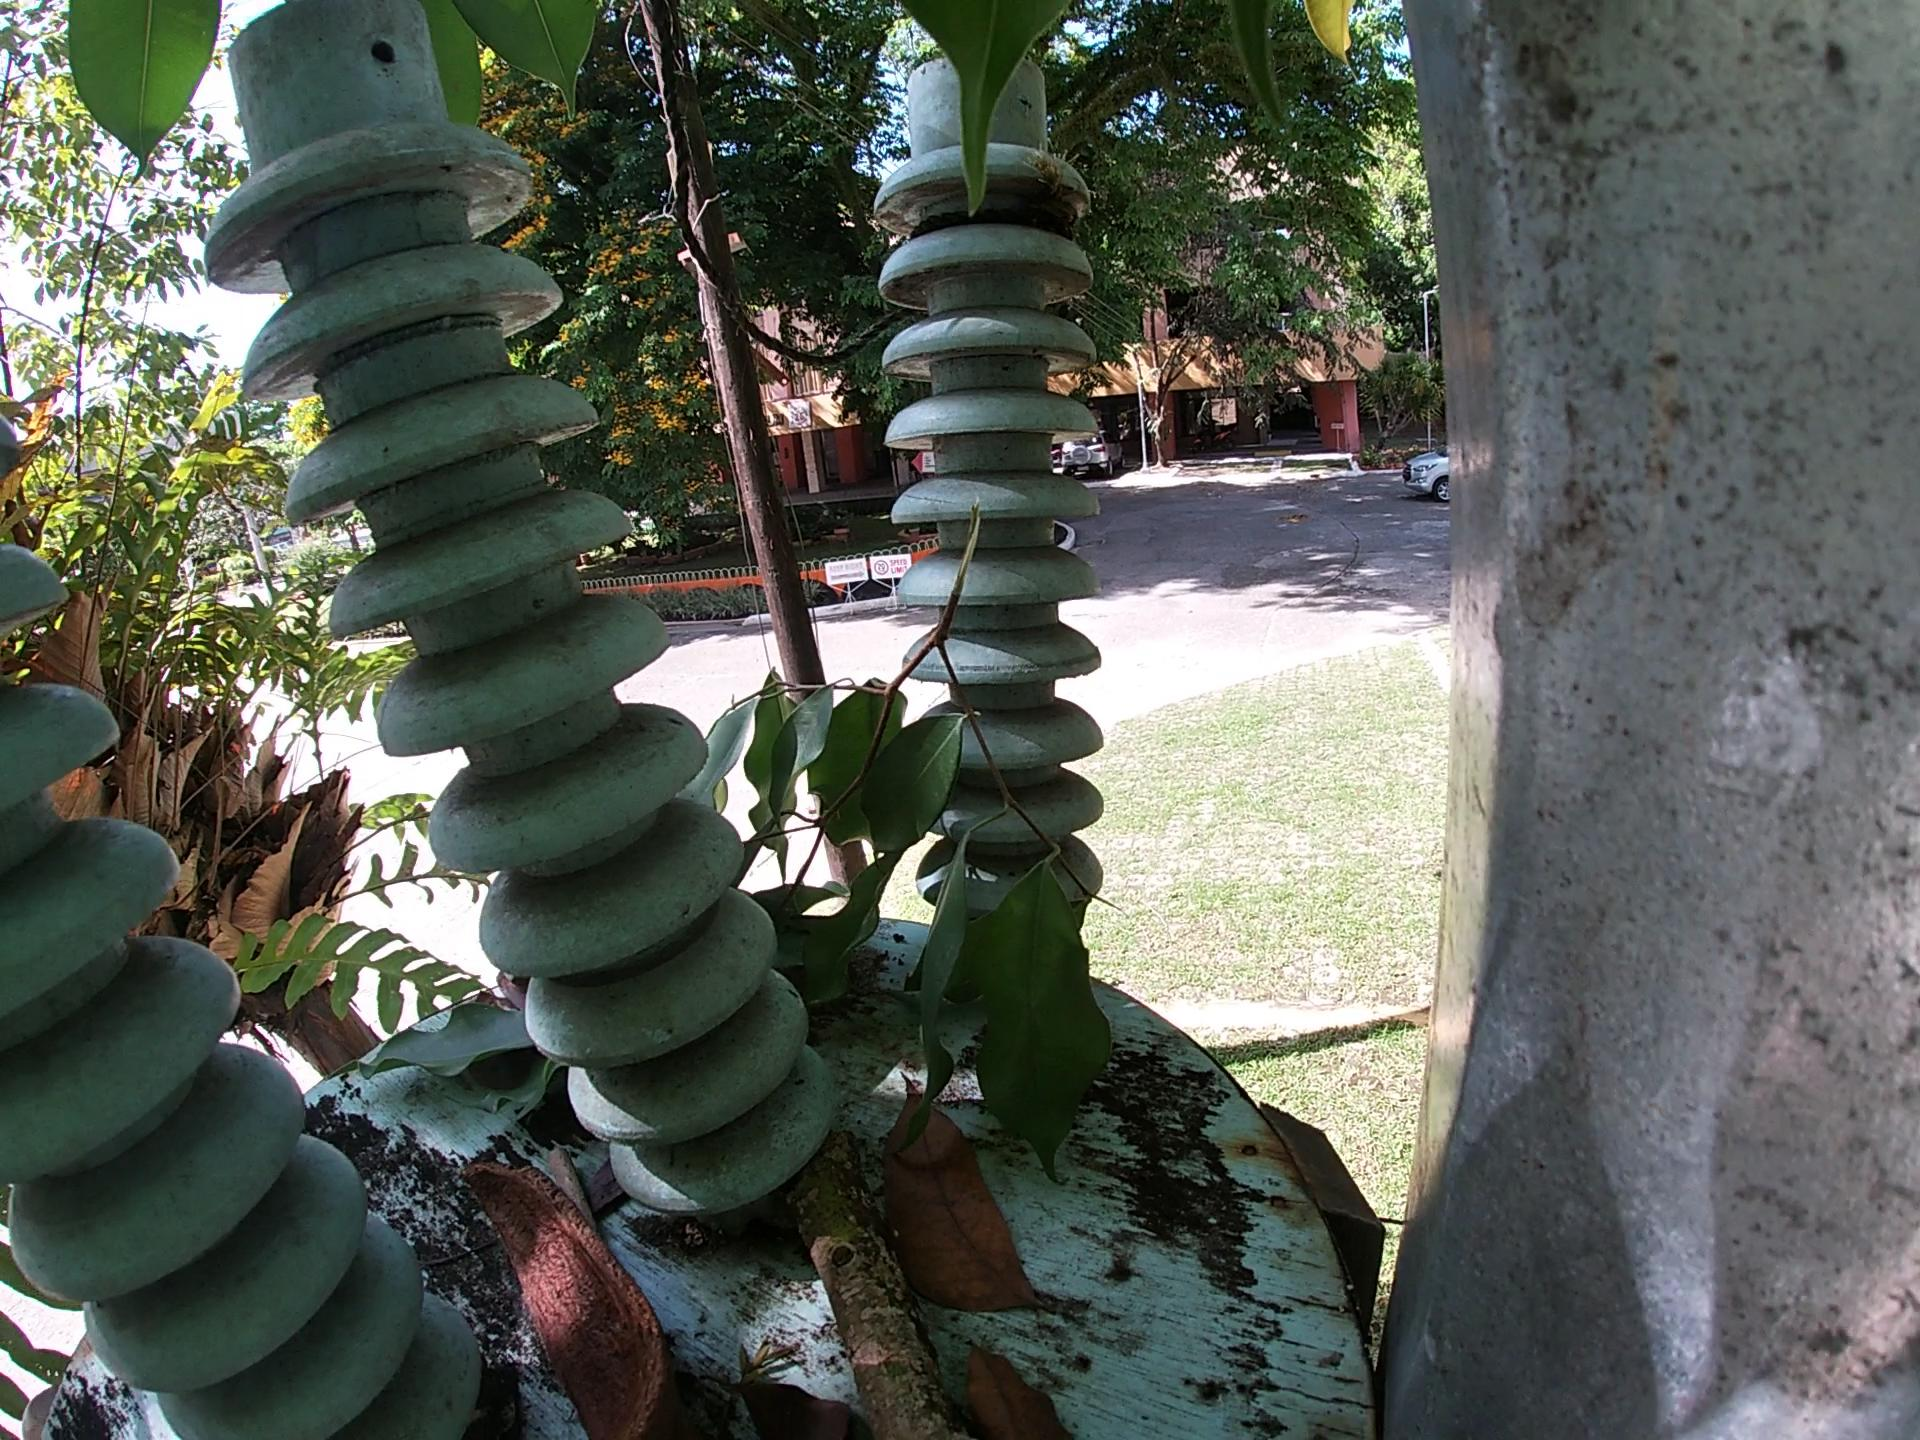branch with leaves: (698, 463, 1122, 1180)
leaf: (880, 1051, 1072, 1343), (351, 988, 615, 1134), (955, 1330, 1095, 1440), (729, 1346, 871, 1432)
mahogany fruit: (467, 1153, 671, 1438)
tree branch: (794, 1175, 943, 1440), (537, 1147, 596, 1224)
